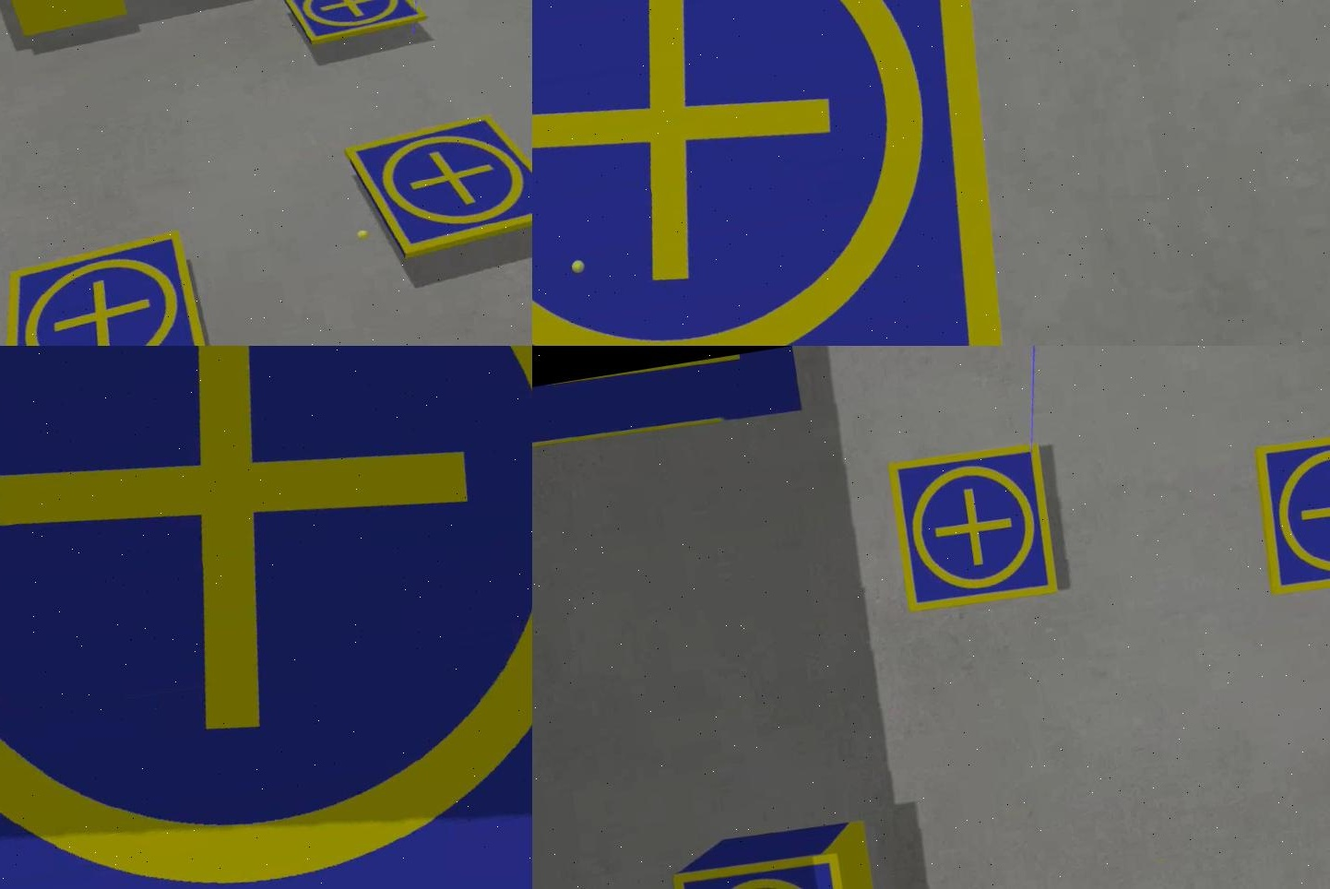small_base: (0, 347, 531, 889), (531, 1, 1048, 347), (880, 439, 1062, 616), (341, 101, 531, 267), (0, 225, 216, 347), (1247, 424, 1328, 598), (672, 846, 866, 889), (277, 1, 426, 54)
